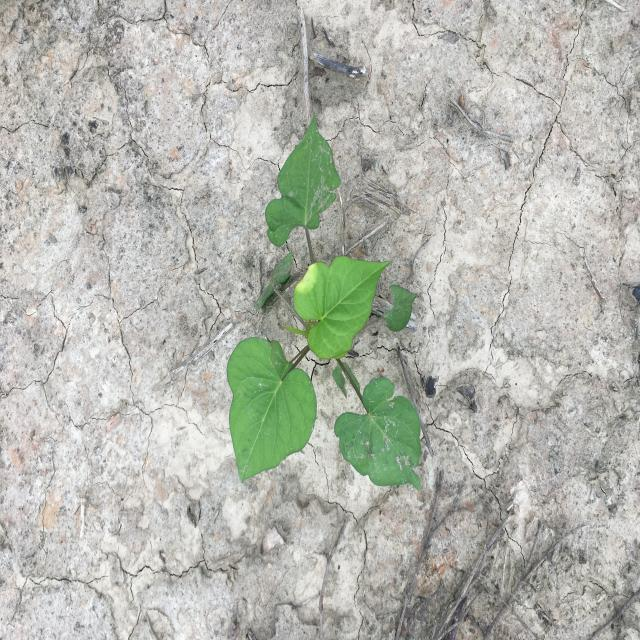MorningGlory: (227, 114, 422, 492)
